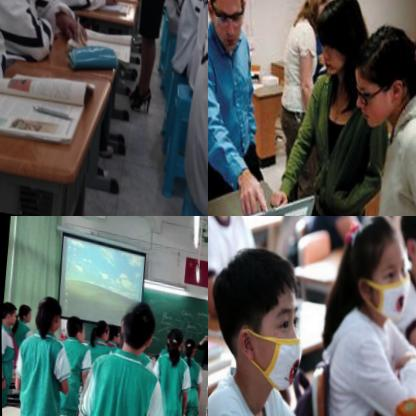head: (208, 237, 309, 394), (345, 5, 416, 131), (341, 216, 416, 321), (314, 0, 365, 72), (115, 295, 156, 359), (208, 0, 252, 48), (394, 216, 416, 287), (32, 292, 64, 336), (300, 0, 335, 28), (65, 312, 88, 344), (165, 320, 184, 350), (91, 315, 110, 342), (182, 334, 198, 358), (17, 301, 34, 323), (107, 321, 122, 345), (205, 321, 208, 339)
